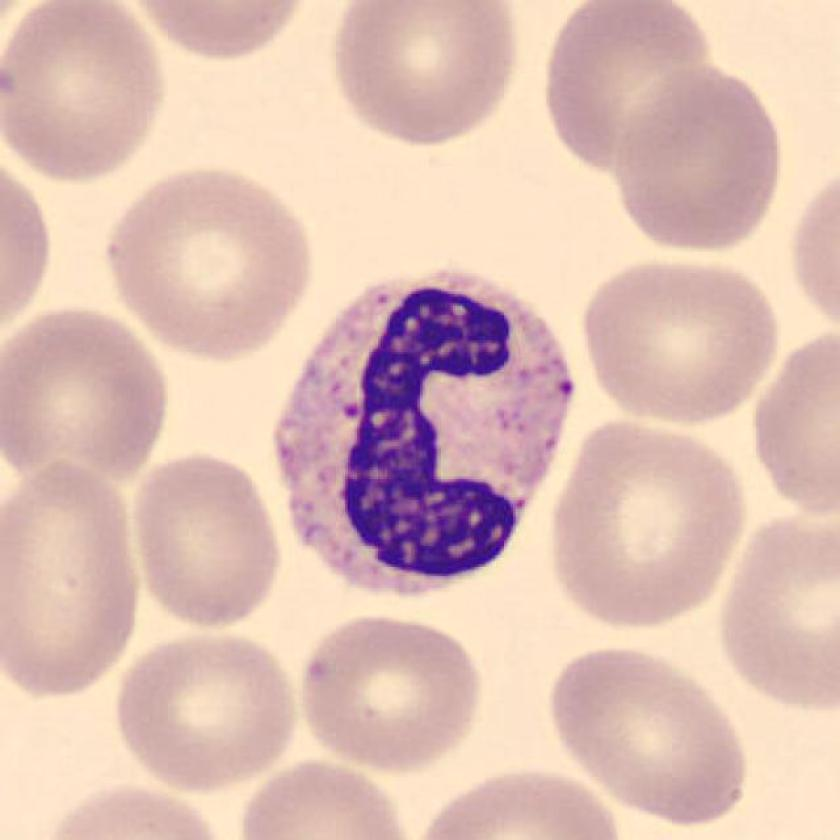neutrophil: (272, 270, 575, 597)
